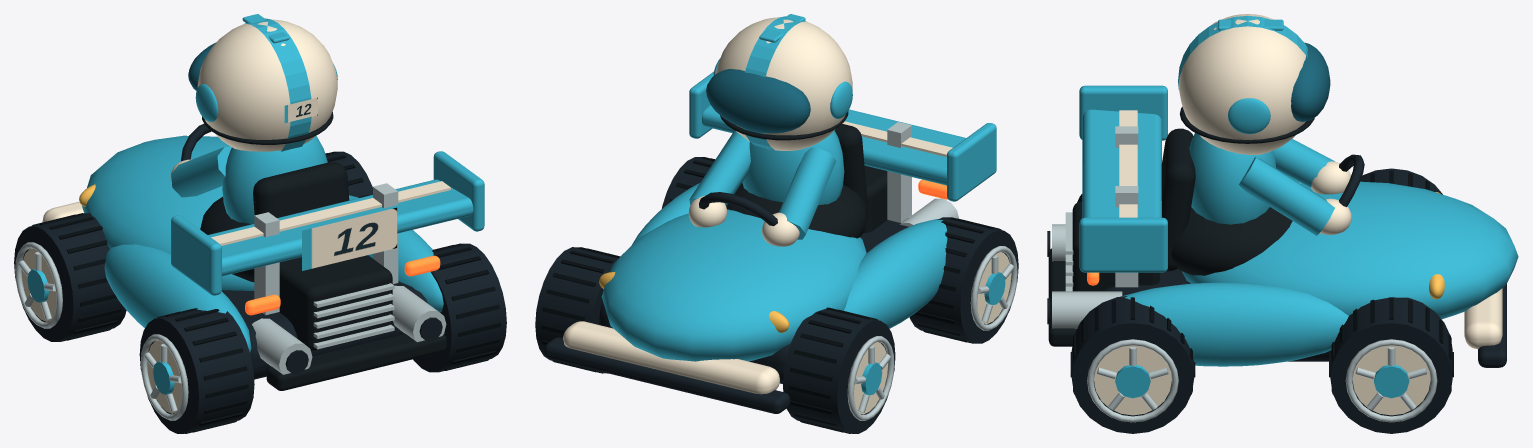
Rendered from kart-1.glb.
3 renders of one model, left to right at view 1: azimuth 30°, elevation 25°; view 2: azimuth 150°, elevation 25°; view 3: azimuth 270°, elevation 25°, orthographic. The views are drawn at different scales.
Parts seen in each view (by area): view 1: Painted racing shell, rubber, Carbon seats and engine recesses, ivory, metal, Tire grooves, Driver racing number, Rear amber lenses; view 2: Painted racing shell, rubber, ivory, Carbon seats and engine recesses, metal, glass, Tire grooves, gold; view 3: Painted racing shell, ivory, rubber, Carbon seats and engine recesses, metal, Tire grooves, glass.
Boxes of the visible parts, x1=… form: Painted racing shell: x1=27, y1=14, x2=484, y2=394; rubber: x1=14, y1=124, x2=506, y2=433; Carbon seats and engine recesses: x1=200, y1=112, x2=446, y2=390; ivory: x1=21, y1=19, x2=450, y2=413; metal: x1=15, y1=183, x2=446, y2=420; Tire grooves: x1=32, y1=151, x2=500, y2=433; Driver racing number: x1=284, y1=97, x2=397, y2=270; Rear amber lenses: x1=245, y1=255, x2=440, y2=315; Painted racing shell: x1=601, y1=14, x2=1005, y2=395; rubber: x1=535, y1=157, x2=1018, y2=433; ivory: x1=563, y1=17, x2=1011, y2=414; Carbon seats and engine recesses: x1=720, y1=111, x2=907, y2=238; metal: x1=847, y1=122, x2=1017, y2=420; glass: x1=706, y1=69, x2=810, y2=133; Tire grooves: x1=541, y1=157, x2=1001, y2=433; gold: x1=599, y1=272, x2=789, y2=332; Painted racing shell: x1=1079, y1=15, x2=1518, y2=398; ivory: x1=1094, y1=14, x2=1502, y2=415; rubber: x1=1047, y1=154, x2=1506, y2=433; Carbon seats and engine recesses: x1=1048, y1=107, x2=1314, y2=346; metal: x1=1052, y1=126, x2=1437, y2=422; Tire grooves: x1=1070, y1=170, x2=1453, y2=394; glass: x1=1291, y1=42, x2=1330, y2=121.
Bounding box in the file's own units: 2.51 × 2.43 × 3.08.
10 materials, 1 textured.
